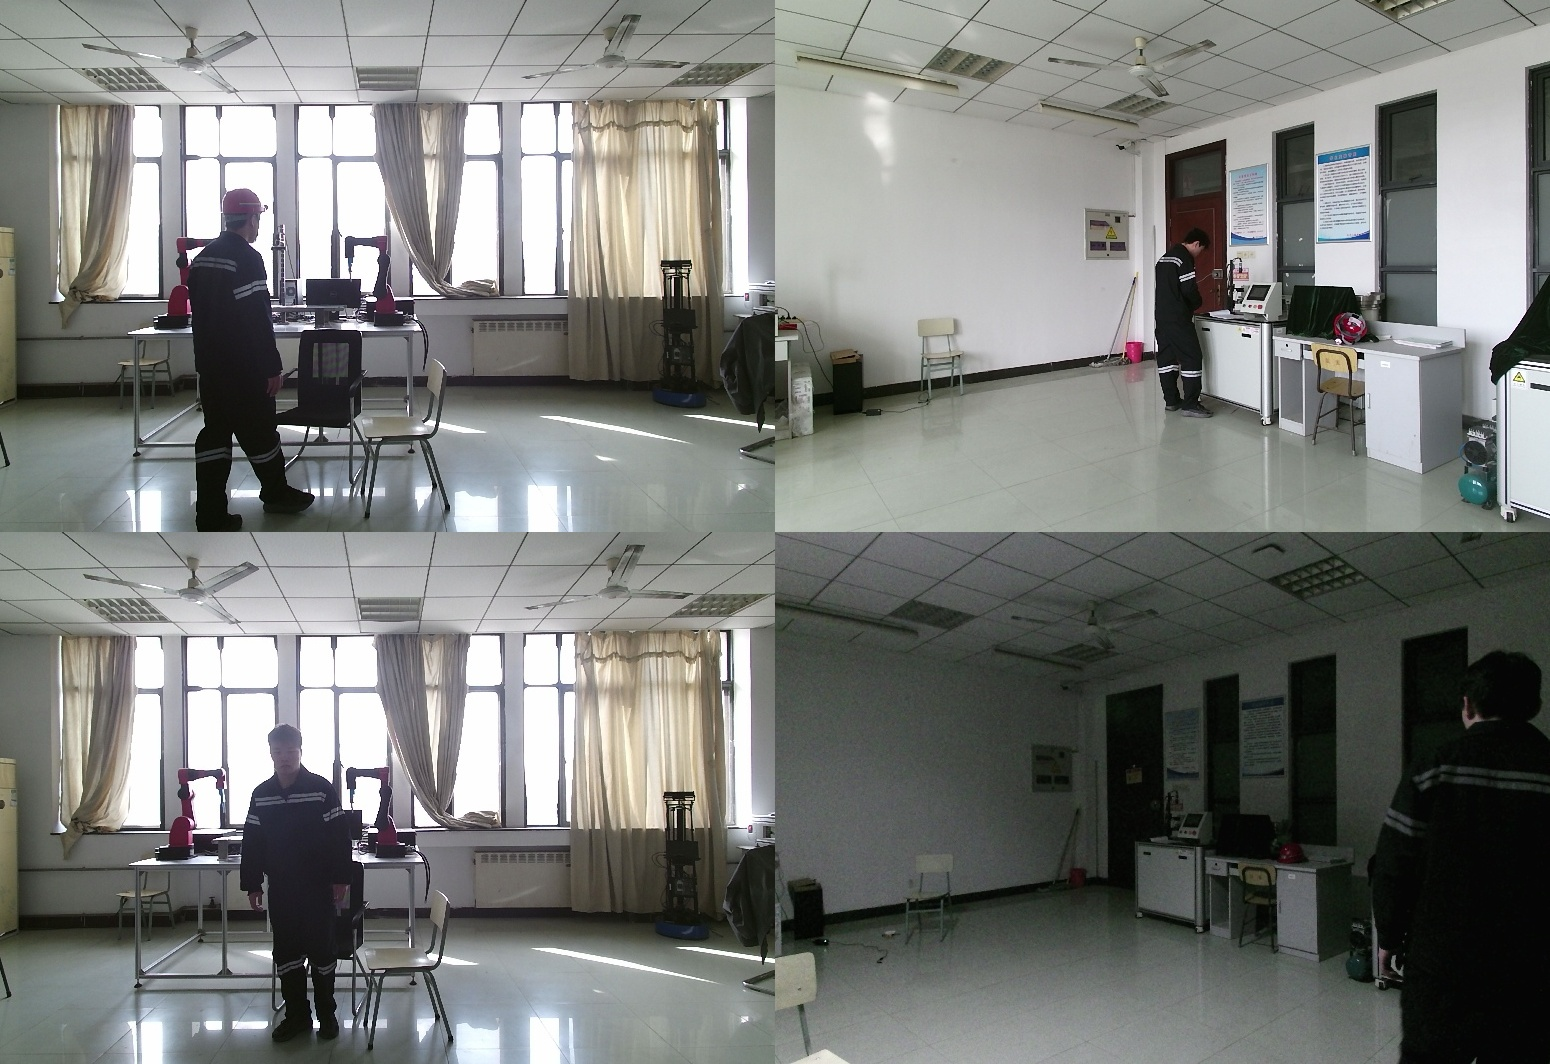person: (1384, 645, 1550, 1064), (182, 187, 312, 532), (242, 723, 361, 1039), (1156, 231, 1215, 428)
